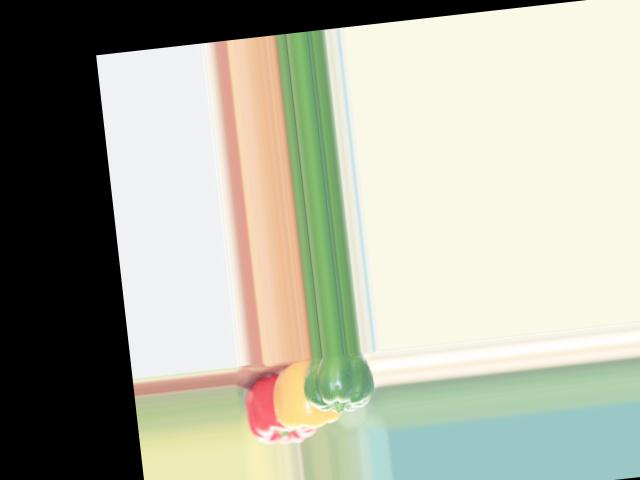bell_pepper: (242, 361, 318, 447)
